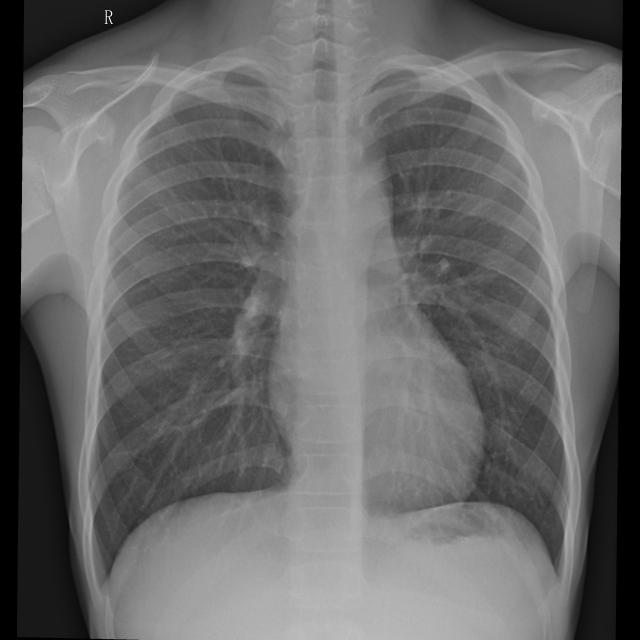no-pneumonia: (95, 67, 300, 563), (371, 70, 566, 565)
